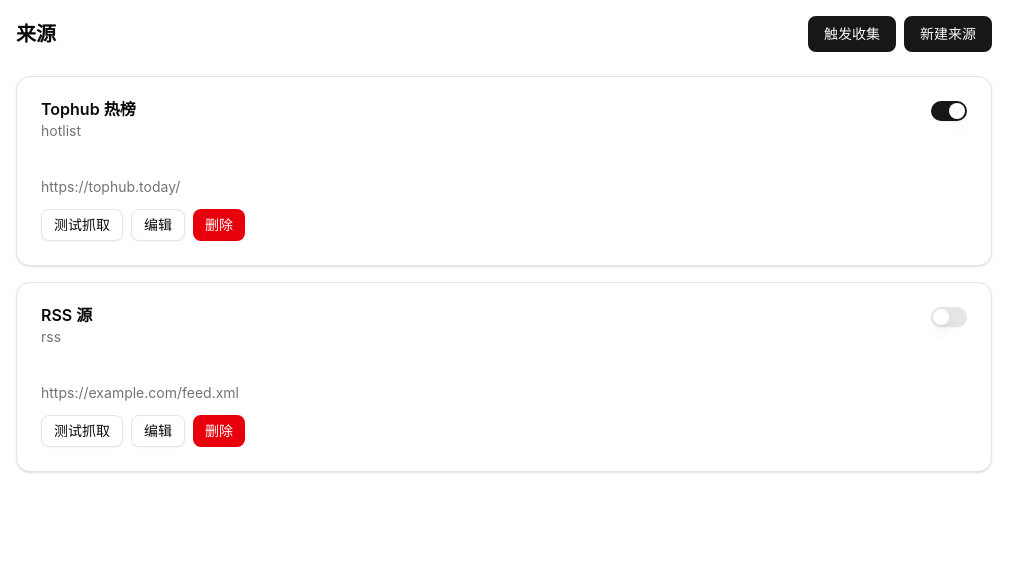
Test: SourcesPage › shows the fetched item count and sample items when a test succeeds
This screenshot has width=1009, height=570.
Expected: the text "Tophub 热榜" is shown, [41, 101, 136, 117]
Click the button "测试抓取" below "https://tophub.today/".
click(82, 225)  # box [41, 209, 123, 241]
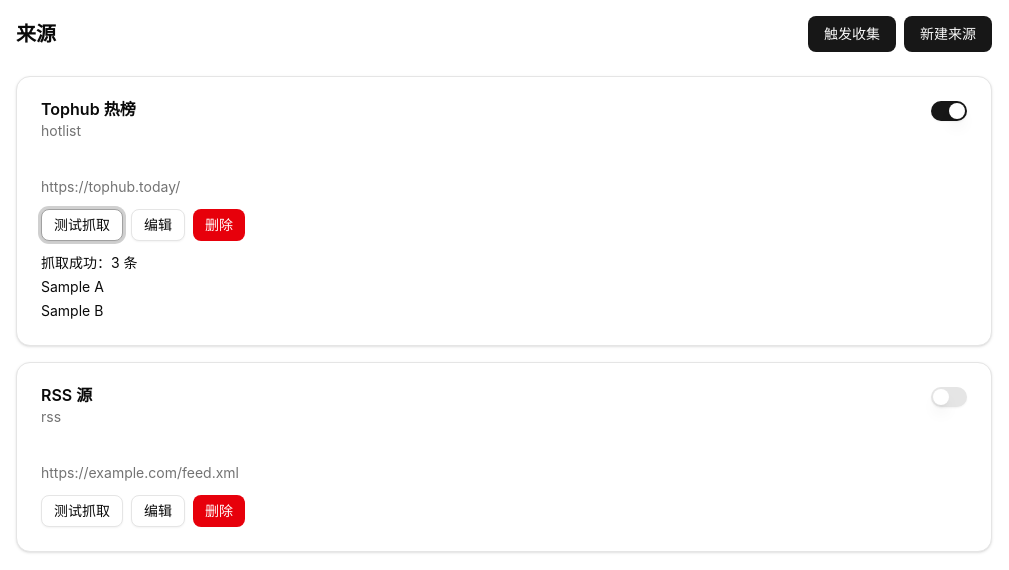
Result: the text "抓取成功：3 条" is shown at [41, 254, 138, 271]
Result: the text "Sample A" is shown at [41, 278, 104, 295]
Result: the text "Sample B" is shown at [41, 302, 103, 319]
